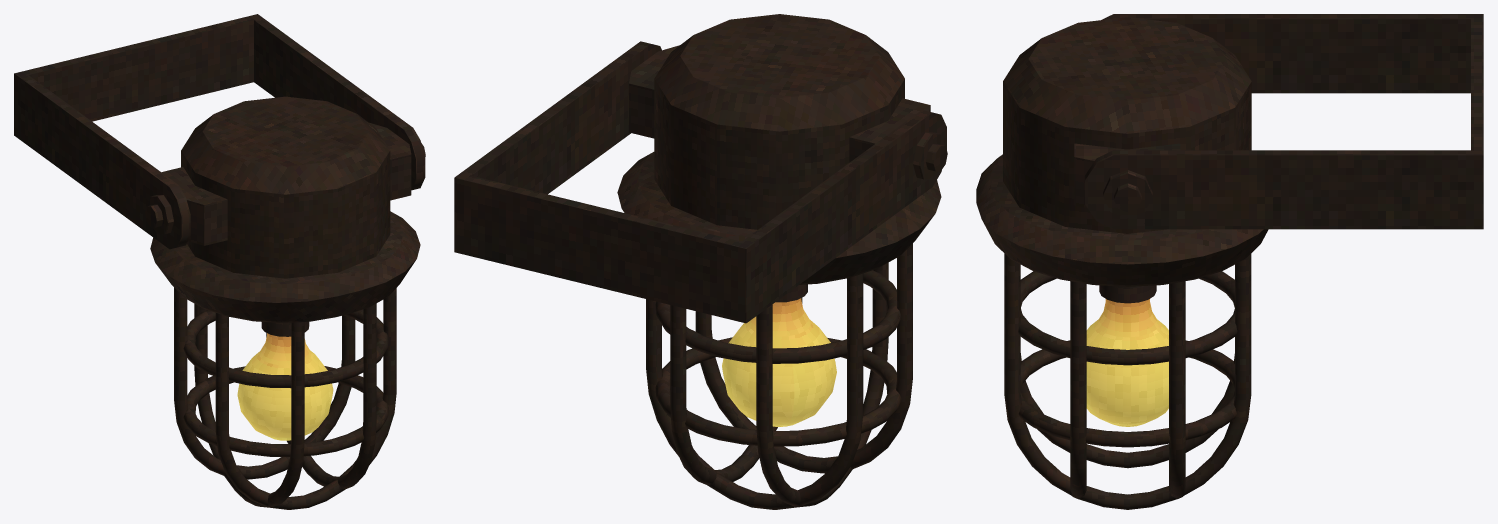
File: lamp_mx_1_on.glb
The picture shows the model from 3 angles, left to right: view 1: azimuth 30°, elevation 25°; view 2: azimuth 150°, elevation 25°; view 3: azimuth 270°, elevation 25°; orthographic projection. The views are drawn at different scales.
Visible parts, largest first — view 1: lamp_mx_1_on; view 2: lamp_mx_1_on; view 3: lamp_mx_1_on.
Boxes of the visible parts, x1,y1,x2,y2 form: lamp_mx_1_on: [14, 14, 425, 509]; lamp_mx_1_on: [454, 14, 947, 509]; lamp_mx_1_on: [976, 14, 1483, 509].
Size of the model in its own units: 0.2245 by 0.288 by 0.308.
Materials: 2 (2 with a texture image).
